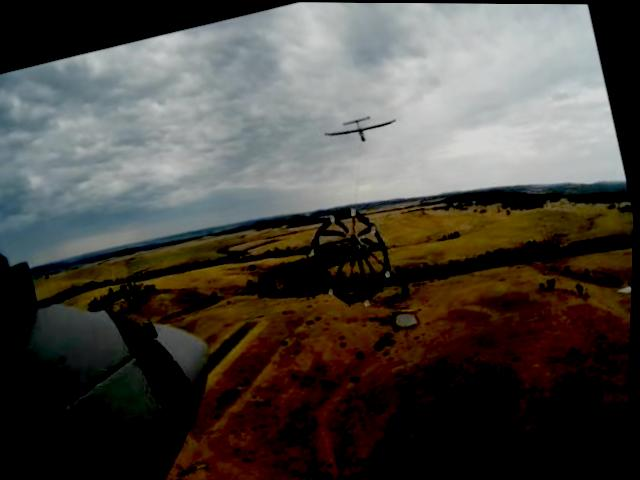uav: (318, 105, 402, 151)
